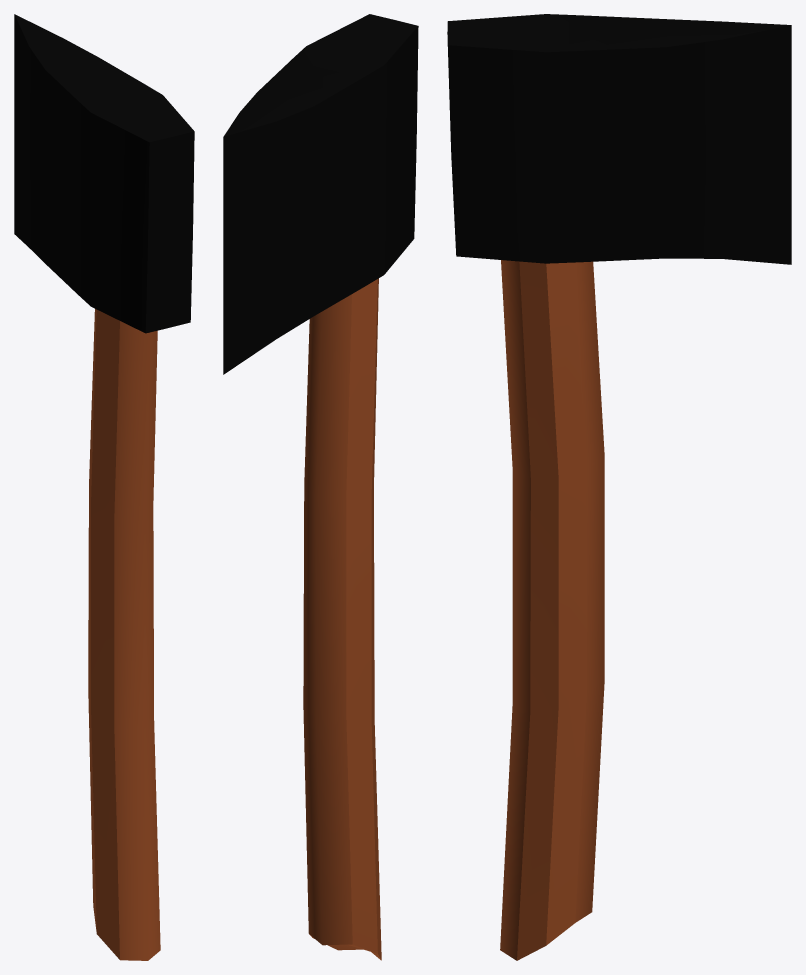
File: axe.fbx
The picture shows the model from 3 angles, left to right: view 1: azimuth 30°, elevation 25°; view 2: azimuth 150°, elevation 25°; view 3: azimuth 270°, elevation 25°; orthographic projection. The views are drawn at different scales.
Parts seen in each view (by area): view 1: Axe; view 2: Axe; view 3: Axe.
Boxes of the visible parts, x1=… form: Axe: x1=14, y1=14, x2=194, y2=960; Axe: x1=223, y1=14, x2=418, y2=960; Axe: x1=447, y1=14, x2=791, y2=960.
Size of the model in its own units: 5.55 by 62.41 by 21.04.
